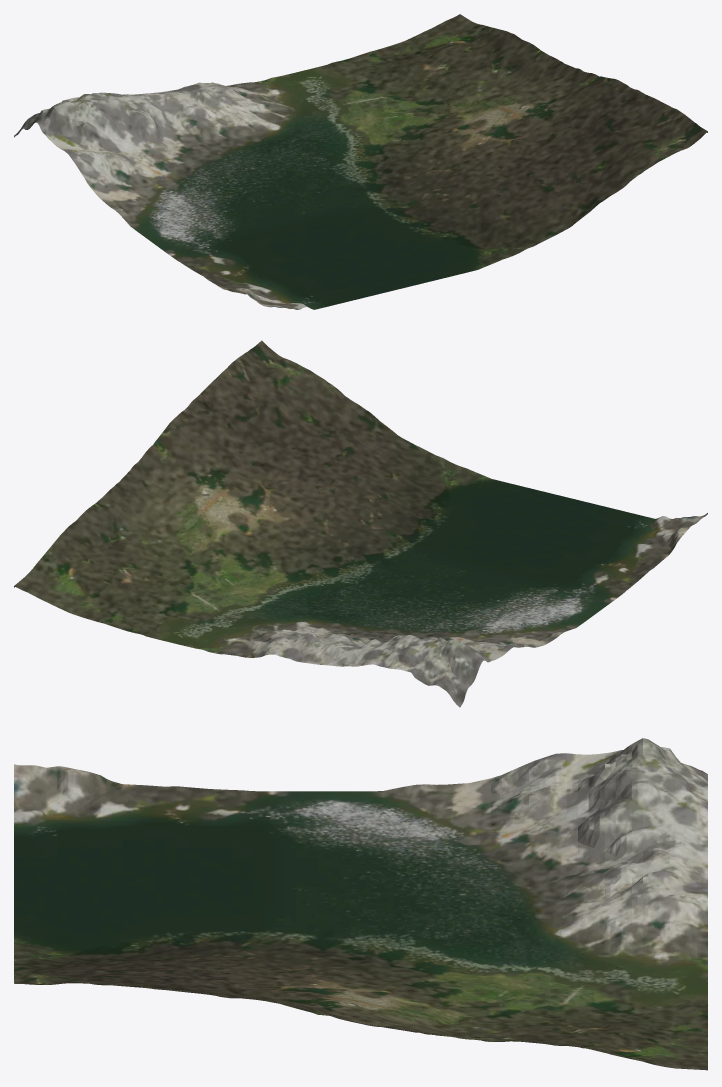
3 renders of one model, top to bottom at view 1: azimuth 30°, elevation 25°; view 2: azimuth 150°, elevation 25°; view 3: azimuth 270°, elevation 25°, orthographic. The views are drawn at different scales.
Size of the model in its own units: 250 by 45.29 by 241.
1 material, 1 textured.
